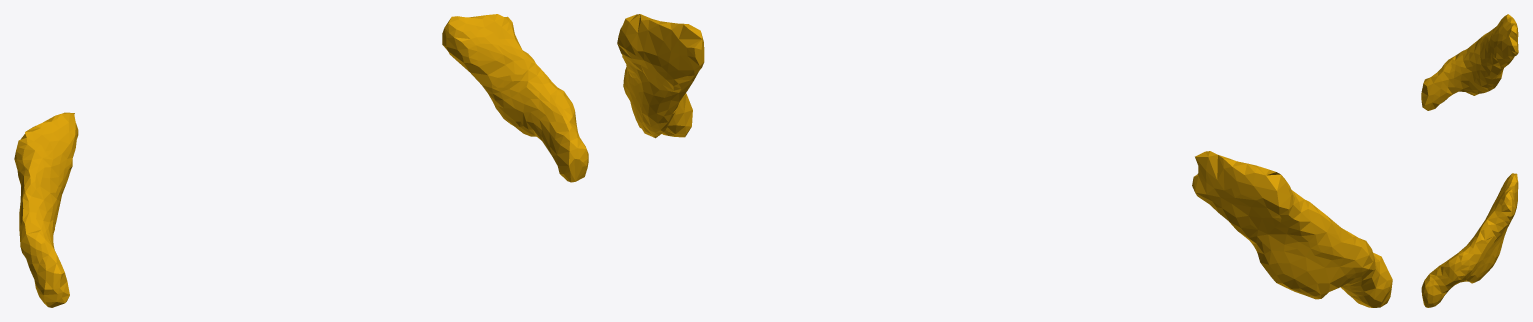
File: 234-AKM-auditory koniocortex, medial part-('1.0000', '0.7294', '0.0000').obj
3 renders of one model, left to right at view 1: azimuth 30°, elevation 25°; view 2: azimuth 150°, elevation 25°; view 3: azimuth 270°, elevation 25°, orthographic. The views are drawn at different scales.
Size of the model in its own units: 302 by 72.61 by 59.49.
